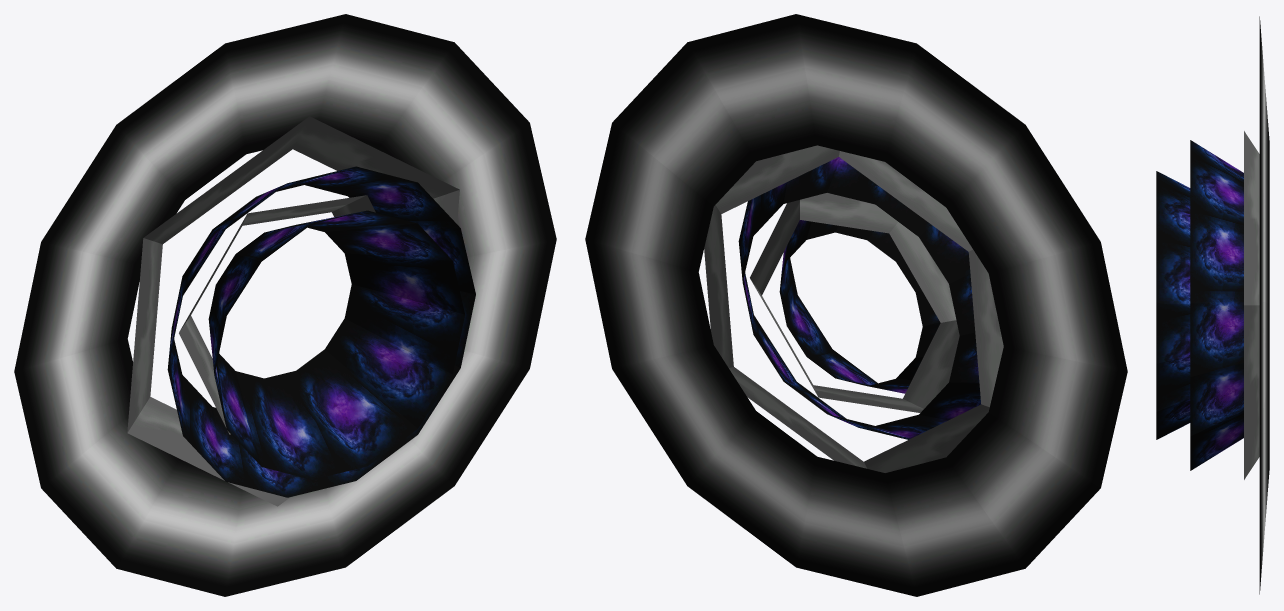
The model's file is tx_boss_siwangchaofeng_01.obj.
3 renders of one model, left to right at view 1: azimuth 30°, elevation 25°; view 2: azimuth 150°, elevation 25°; view 3: azimuth 270°, elevation 25°, orthographic. The views are drawn at different scales.
Visible parts, largest first — view 1: Cylinder06, Cylinder10, Cylinder09, Cylinder05, Cylinder04; view 2: Cylinder06, Cylinder05, Cylinder09, Cylinder04, Cylinder10; view 3: Cylinder09, Cylinder10, Cylinder05, Cylinder06.
Boxes of the visible parts, box(x1,y1,x2,y2) form: Cylinder06: box(14, 14, 556, 596); Cylinder10: box(208, 210, 464, 479); Cylinder09: box(167, 166, 475, 497); Cylinder05: box(127, 116, 459, 506); Cylinder04: box(179, 195, 375, 434); Cylinder06: box(585, 14, 1127, 596); Cylinder05: box(704, 145, 1003, 472); Cylinder09: box(738, 157, 980, 439); Cylinder04: box(750, 193, 959, 412); Cylinder10: box(779, 220, 940, 393); Cylinder09: box(1190, 140, 1243, 470); Cylinder10: box(1156, 171, 1190, 439); Cylinder05: box(1244, 131, 1259, 479); Cylinder06: box(1259, 16, 1269, 594).
Size of the model in its own units: 147 by 143 by 28.
Materials: 3 (3 with a texture image).
